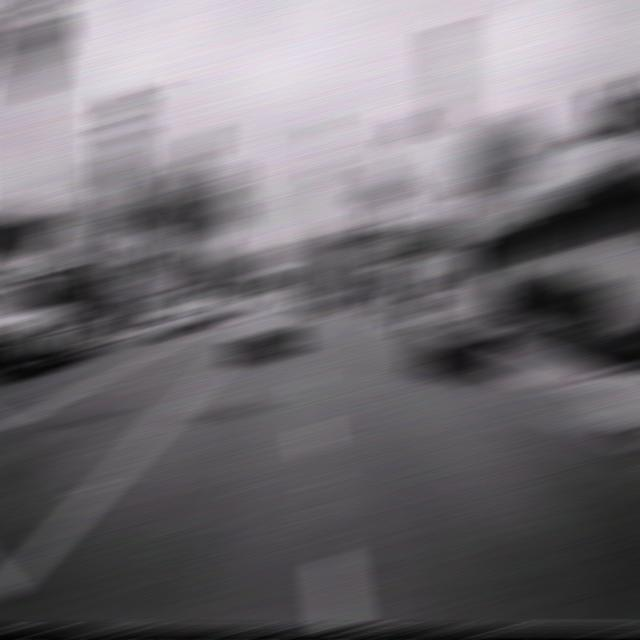speedLimit30: (444, 204, 478, 241)
